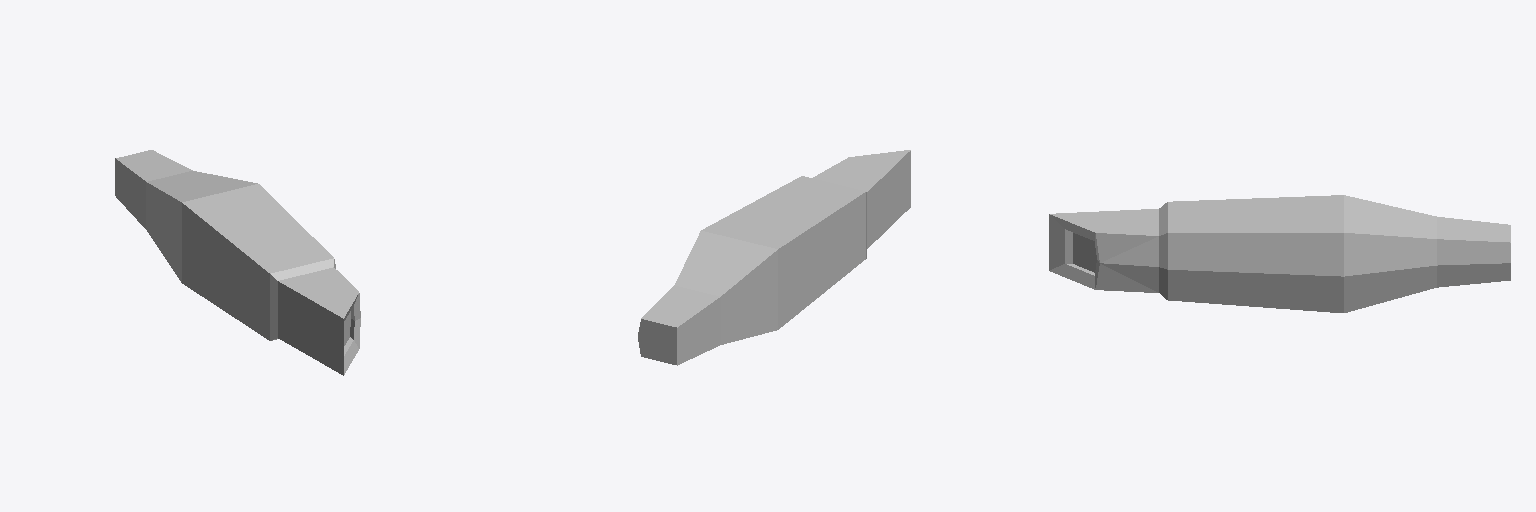
The model's file is upper_leg.obj.
The picture shows the model from 3 angles: view 1: azimuth 30°, elevation 25°; view 2: azimuth 150°, elevation 25°; view 3: azimuth 270°, elevation 25°; orthographic projection.
Parts seen in each view (by area): view 1: cube2; view 2: cube2; view 3: cube2.
Part boxes in pixels (left/top/right/bottom): cube2: left=115, top=150, right=360, bottom=375; cube2: left=638, top=150, right=910, bottom=365; cube2: left=1049, top=195, right=1510, bottom=312.
Size of the model in its own units: 0.1051 by 0.096 by 0.4978.